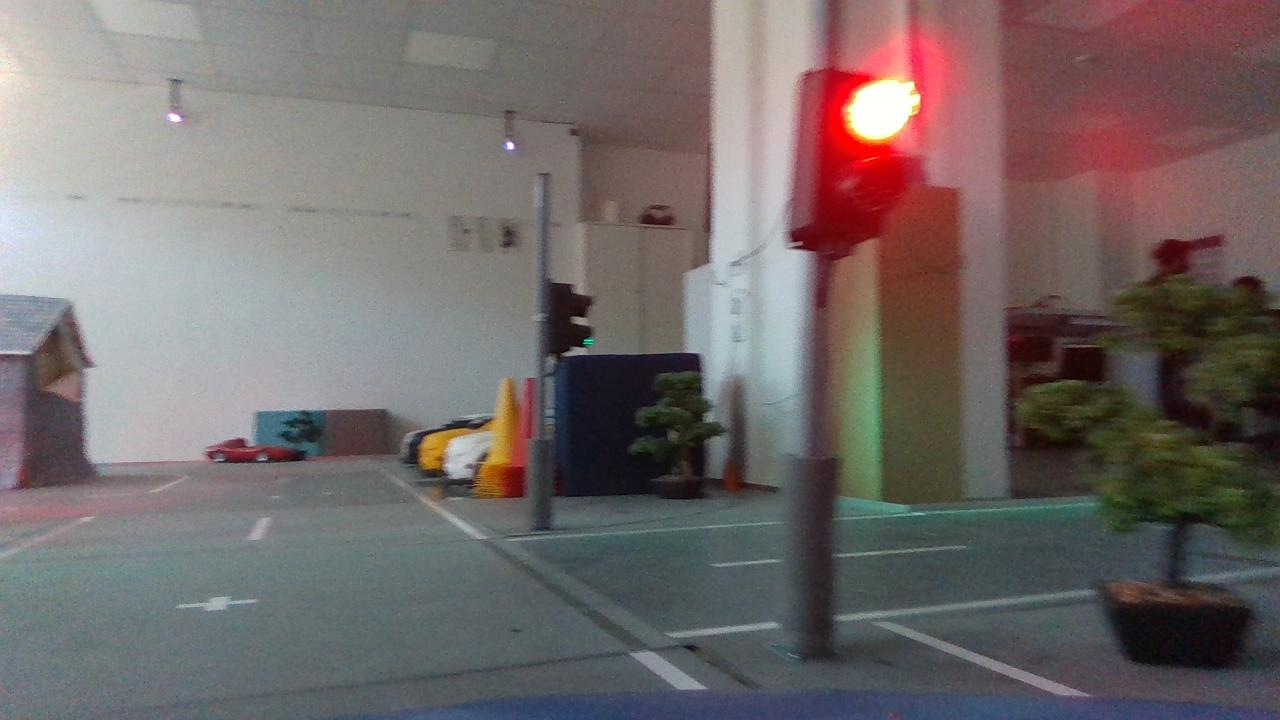traffic_light_red: (781, 52, 933, 273)
